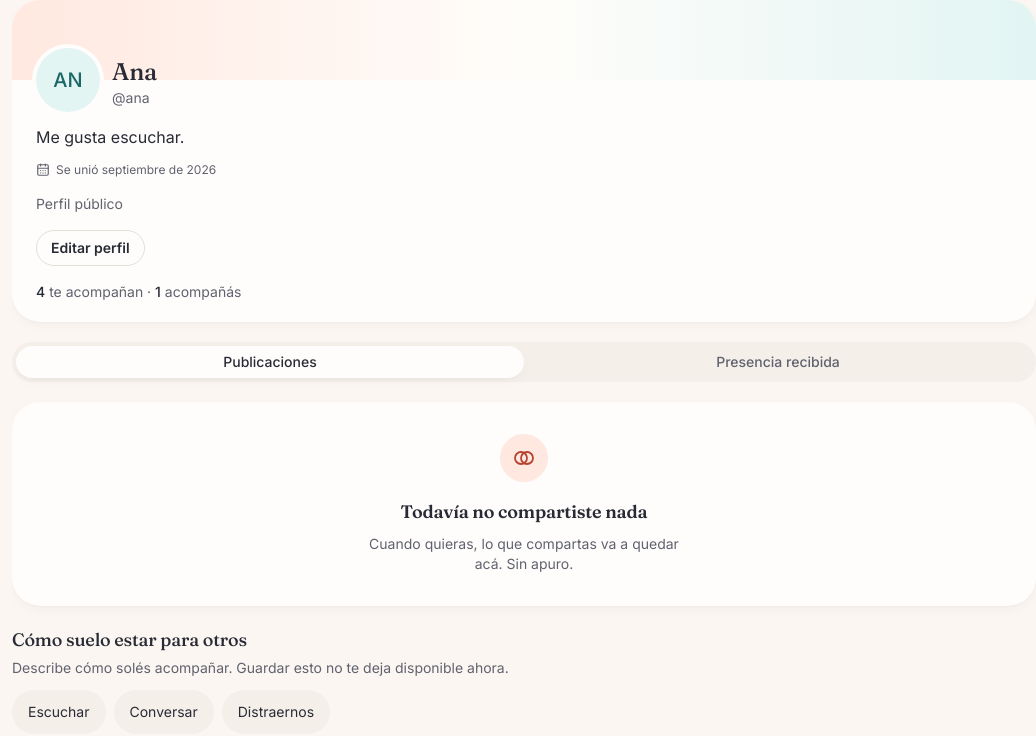
it: ProfilePage › keeps publications and received presence as tabs without a fake count
Check: the heading "Todavía no compartiste nada" is shown, box [400,500,647,523]
Click the tab "Presencia recibida".
click(778, 362)  # box [524,346,1032,378]
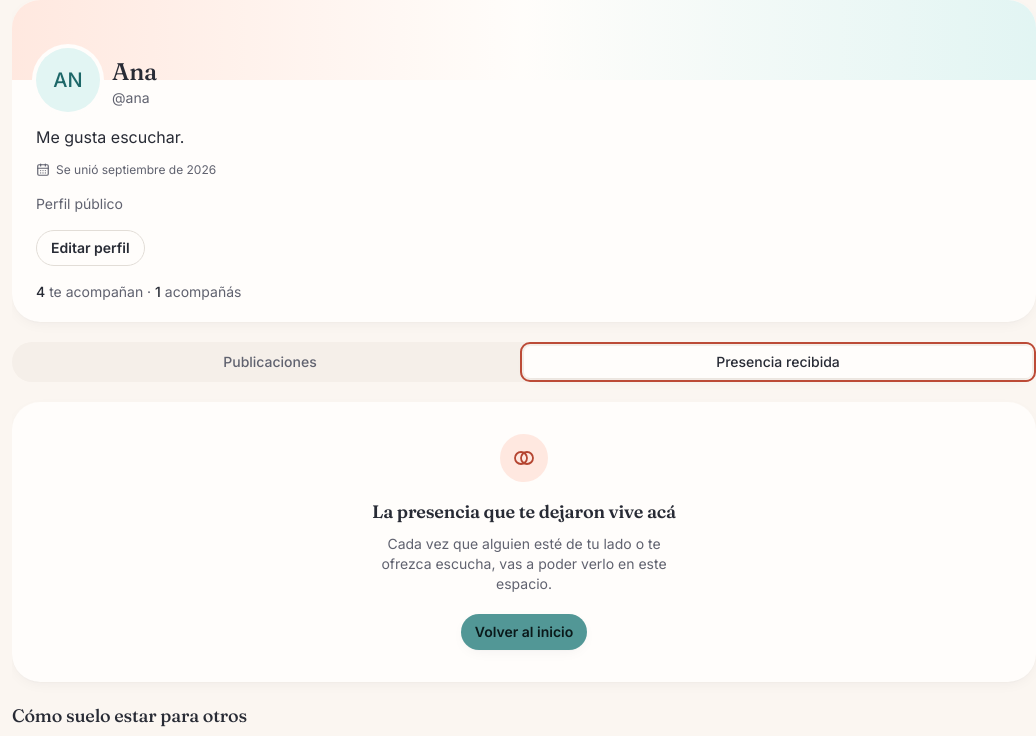
Check: the heading "La presencia que te dejaron vive acá" is shown, box [372,500,676,523]
Check: the text "Cada vez que alguien esté de tu lado o te ofrezca escucha, vas a poder verlo en este espacio." is shown, box [381,535,667,592]
Check: the button "Volver al inicio" is shown, box [461,614,587,650]
